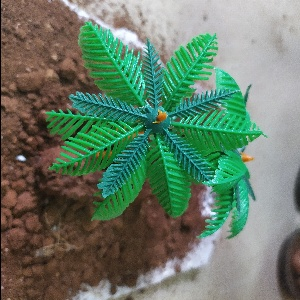plant: (53, 18, 262, 221)
